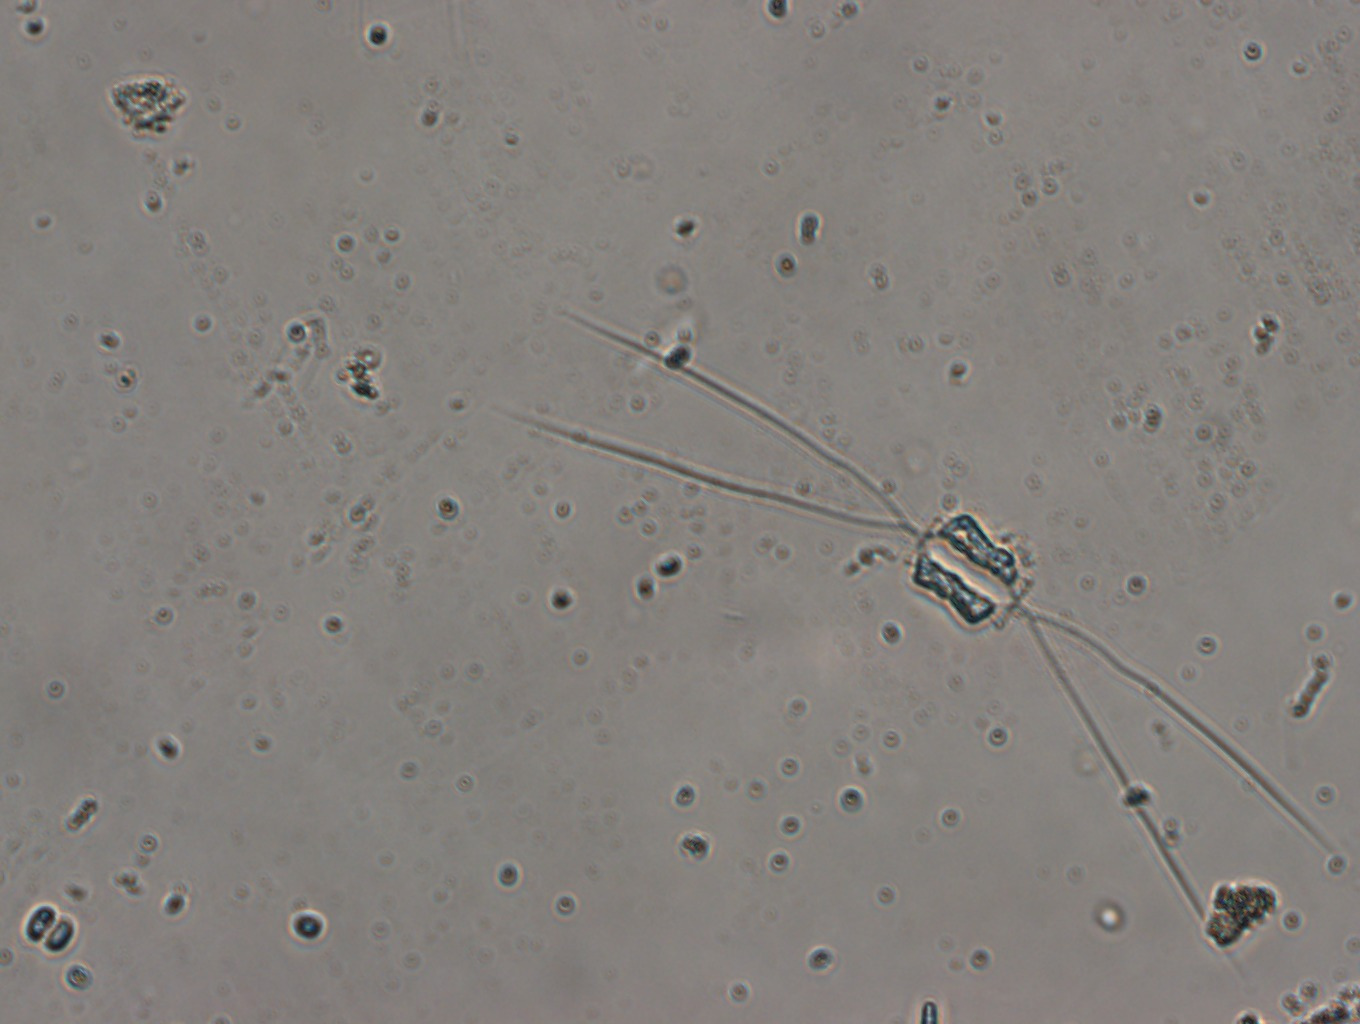chaetoceros: (493, 304, 1331, 971)
